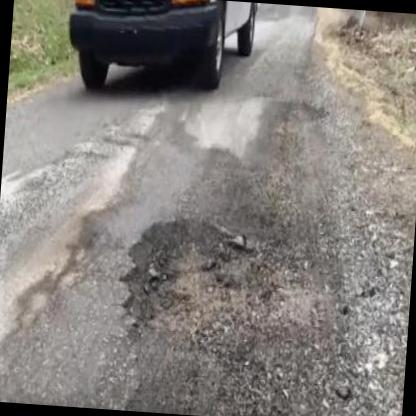pothole: (112, 210, 268, 350)
